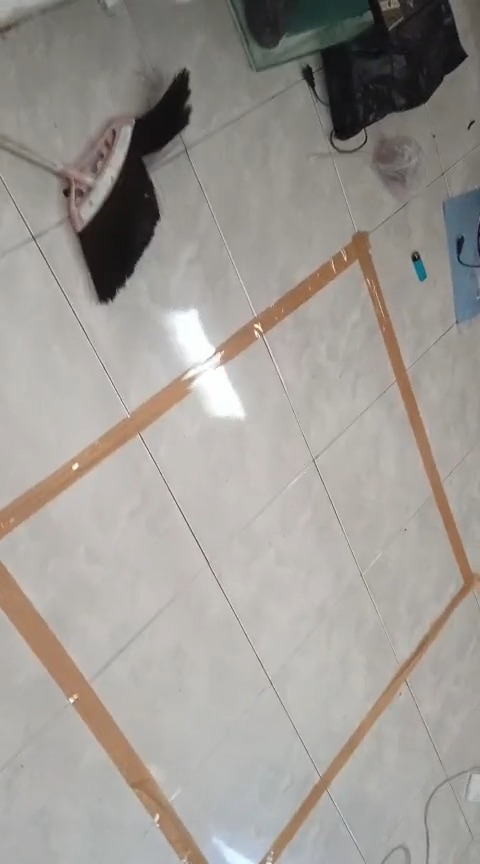floor marking: (0, 232, 479, 863), (0, 563, 207, 863)
